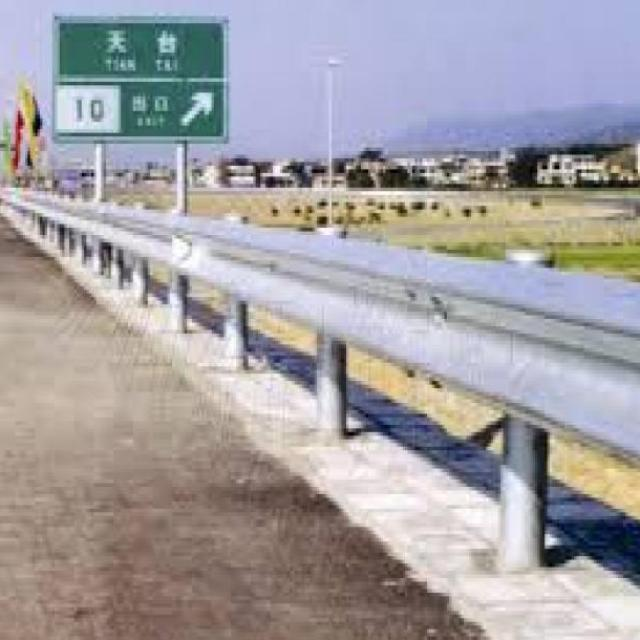Guard rail: (4, 195, 640, 457)
